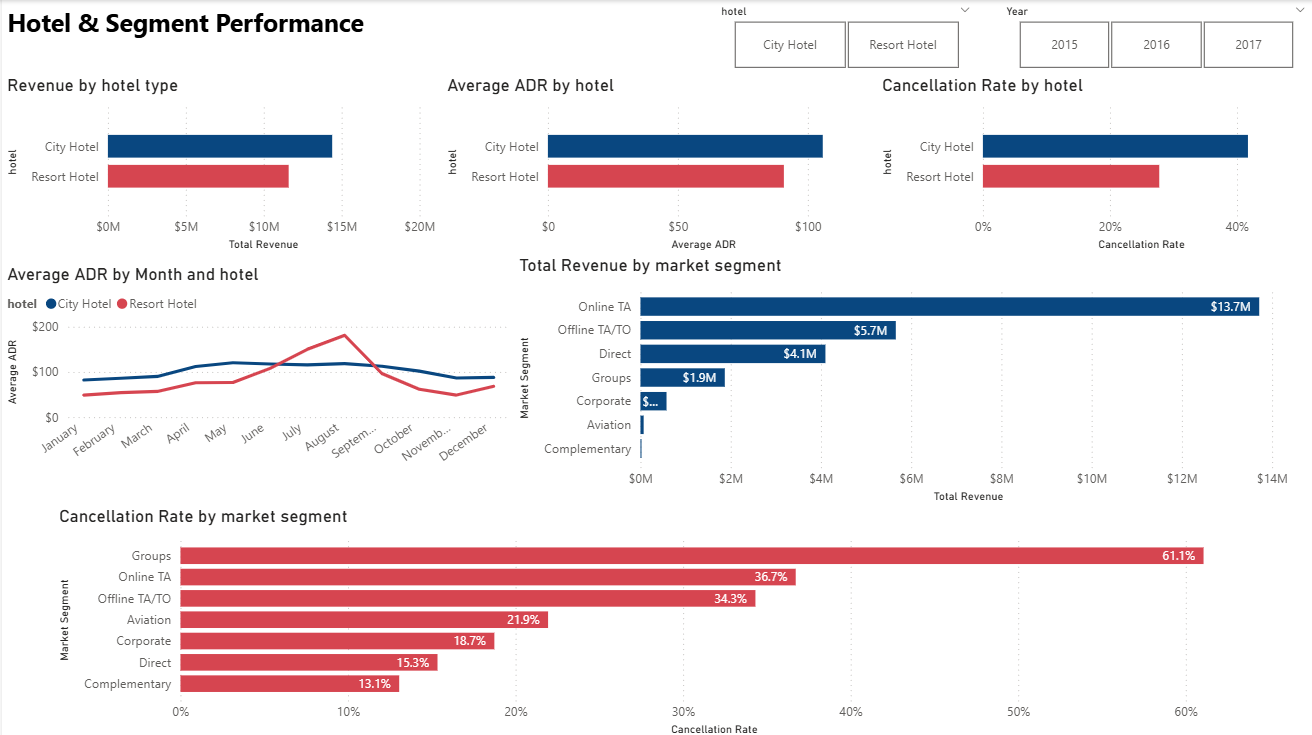

This screenshot's page, from the dashboard's own definition file:
{"tool":"powerbi","page":{"name":"Hotel $ Segment Performance","canvas":[1280,720],"ordinal":2},"visuals":[{"type":"clusteredBarChart","title":"Revenue by hotel type","fields":{"Category":["hotel_bookings_clean.hotel"],"Y":["hotel_bookings_clean.Total Revenue"]},"box":[0,72.5,427.1,175],"z":0},{"type":"clusteredBarChart","fields":{"Category":["hotel_bookings_clean.hotel"],"Y":["hotel_bookings_clean.Cancellation Rate"]},"box":[851.5,72.5,428.9,175],"z":1000},{"type":"clusteredBarChart","fields":{"Category":["hotel_bookings_clean.hotel"],"Y":["hotel_bookings_clean.Average ADR"]},"box":[428,72.5,424.4,175],"z":2000},{"type":"lineChart","fields":{"Category":["DateTable.Month"],"Y":["hotel_bookings_clean.Average ADR"],"Series":["hotel_bookings_clean.hotel"]},"box":[0,256.6,497.8,204.9],"z":3000},{"type":"clusteredBarChart","title":"Total Revenue by market segment","fields":{"Category":["hotel_bookings_clean.market_segment"],"Y":["hotel_bookings_clean.Total Revenue"]},"box":[497.8,247.6,782.6,244.8],"z":4000},{"type":"clusteredBarChart","title":"Cancellation Rate by market segment","fields":{"Category":["hotel_bookings_clean.market_segment"],"Y":["hotel_bookings_clean.Cancellation Rate"]},"box":[50.8,492.4,1178.8,227.6],"z":5000},{"type":"slicer","fields":{"Values":["hotel_bookings_clean.hotel"]},"box":[686.4,0,267.5,72.5],"z":6000},{"type":"slicer","fields":{"Values":["DateTable.Year"]},"box":[963.9,0,316.5,72.5],"z":7000},{"type":"textbox","box":[0,0,393.6,51.7],"z":8000}]}

Visuals, with their boxes in screenshot pixels (x1, y1, x2, y2), scaled from the page's 1280x720 canvas onto the 1312x735 screenshot:
"Revenue by hotel type" clusteredBarChart: <bbox>0, 74, 438, 253</bbox>
clusteredBarChart - hotel_bookings_clean.hotel x hotel_bookings_clean.Cancellation Rate: <bbox>873, 74, 1311, 253</bbox>
clusteredBarChart - hotel_bookings_clean.hotel x hotel_bookings_clean.Average ADR: <bbox>439, 74, 874, 253</bbox>
lineChart - DateTable.Month x hotel_bookings_clean.Average ADR: <bbox>0, 262, 510, 471</bbox>
"Total Revenue by market segment" clusteredBarChart: <bbox>510, 253, 1311, 503</bbox>
"Cancellation Rate by market segment" clusteredBarChart: <bbox>52, 503, 1260, 734</bbox>
slicer - hotel_bookings_clean.hotel: <bbox>704, 0, 978, 74</bbox>
slicer - DateTable.Year: <bbox>988, 0, 1311, 74</bbox>
textbox: <bbox>0, 0, 403, 53</bbox>
